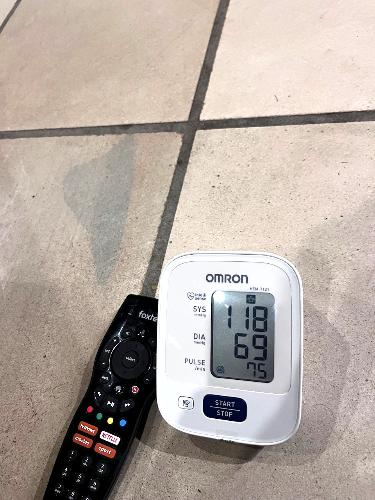bpm: (210, 288, 275, 385)
